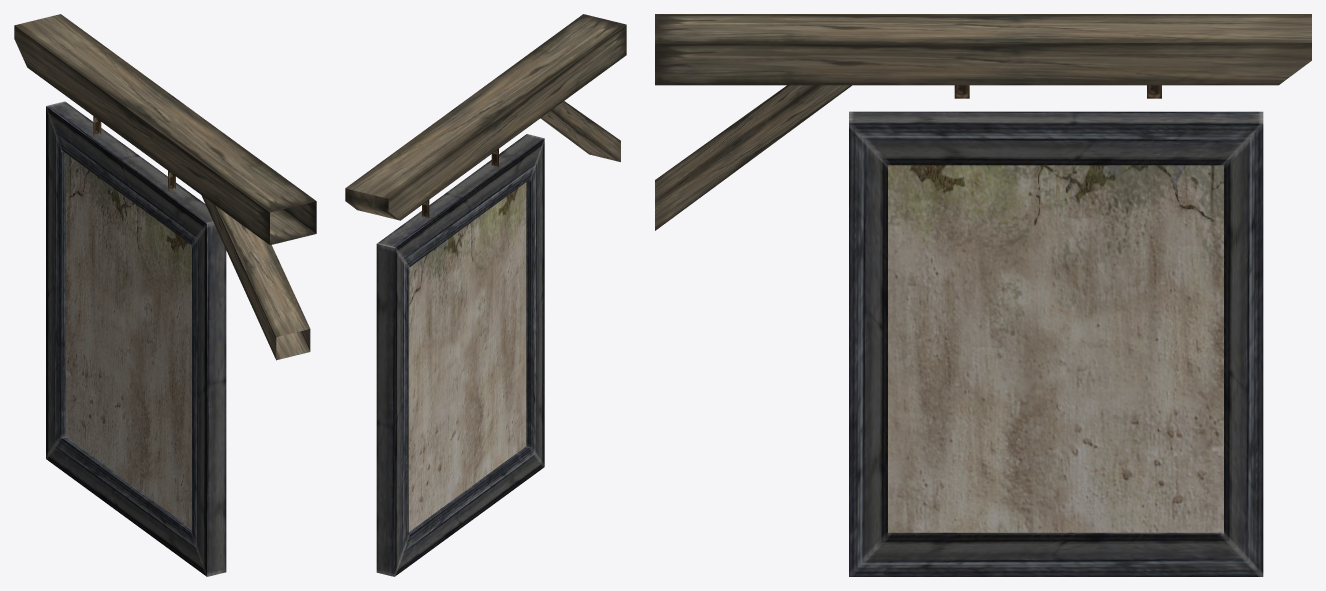
The model's file is sign1_eng_a_frame.fbx.
3 renders of one model, left to right at view 1: azimuth 30°, elevation 25°; view 2: azimuth 150°, elevation 25°; view 3: azimuth 270°, elevation 25°, orthographic. The views are drawn at different scales.
Visible parts, largest first — view 1: sign, support_horizontal, support_diagonal; view 2: sign, support_horizontal, support_diagonal; view 3: sign, support_horizontal, support_diagonal.
Boxes of the visible parts, bbox=[...] form: sign: bbox=[46, 101, 226, 576]; support_horizontal: bbox=[14, 14, 316, 245]; support_diagonal: bbox=[201, 195, 310, 360]; sign: bbox=[376, 134, 544, 576]; support_horizontal: bbox=[345, 14, 626, 220]; support_diagonal: bbox=[540, 101, 620, 161]; sign: bbox=[849, 111, 1263, 576]; support_horizontal: bbox=[655, 14, 1311, 85]; support_diagonal: bbox=[655, 85, 851, 230].
Size of the model in its own units: 64.52 by 560 by 614.
2 materials, 2 textured.
